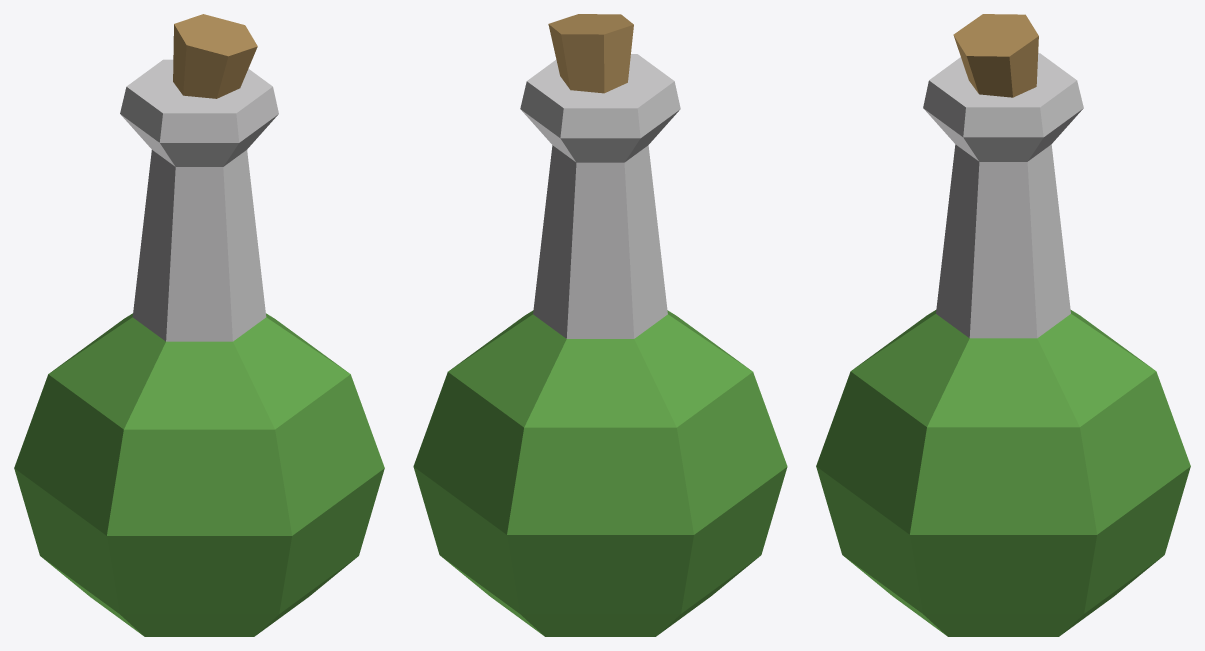
File: Green_Potion.gltf
The picture shows the model from 3 angles, left to right: view 1: azimuth 30°, elevation 25°; view 2: azimuth 150°, elevation 25°; view 3: azimuth 270°, elevation 25°; orthographic projection.
Parts seen in each view (by area): view 1: Green_Potion2; view 2: Green_Potion2; view 3: Green_Potion2.
Part boxes in pixels (left/top/right/bottom): Green_Potion2: left=14, top=14, right=384, bottom=636; Green_Potion2: left=413, top=14, right=787, bottom=636; Green_Potion2: left=816, top=14, right=1190, bottom=636.
Bounding box in the file's own units: 0.0619 × 0.1209 × 0.0715.
1 material, 1 textured.
